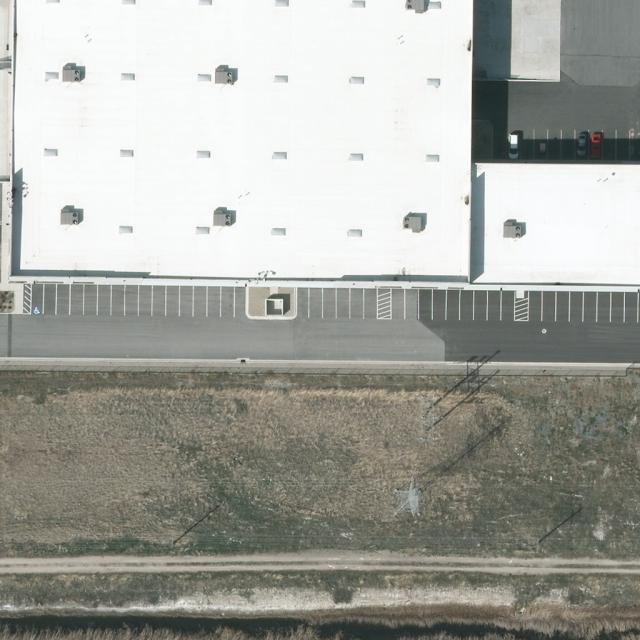vehicle: (508, 134, 520, 162), (590, 134, 602, 160), (577, 135, 588, 158)
